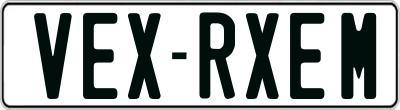E: (80, 13, 118, 104), (287, 12, 324, 100)
M: (338, 11, 376, 99)
R: (199, 10, 234, 97)
V: (34, 11, 72, 102)
X: (244, 13, 283, 100), (127, 11, 163, 102)
